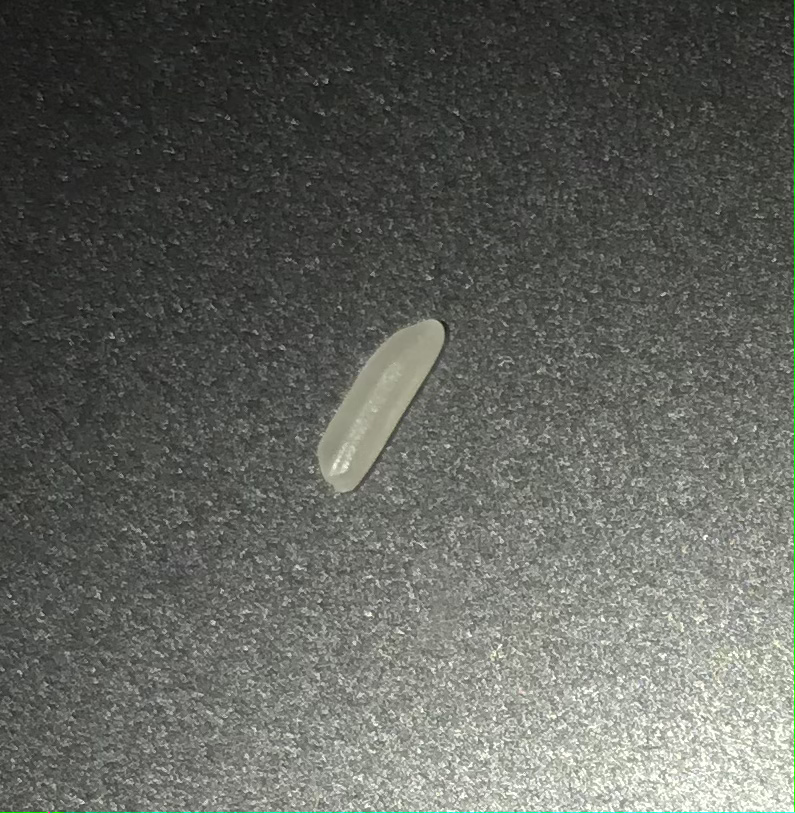Gao Long Lai: (317, 302, 452, 509)
